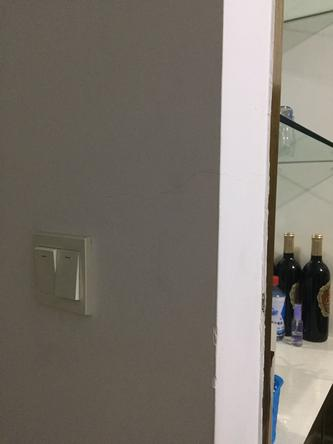switch: (35, 248, 60, 301), (58, 249, 81, 302)
